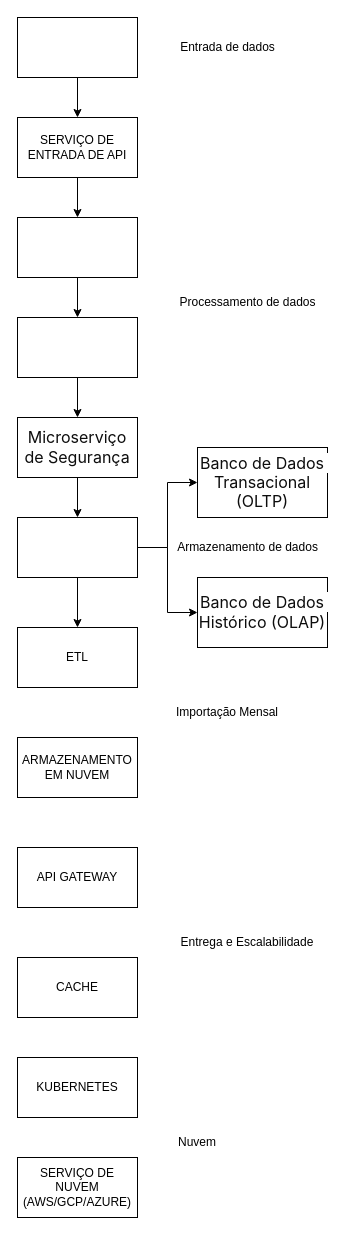
Some shapes in this 345 by 1235 pixel diagram are drawn without their labels. Here are the shapes that lost their labels. From the top down, the centre of each, then its label:
At point 77,47: "CLIENTE".
At point 77,247: "Mensagem Fila (AWS SQS)".
At point 77,347: "Microserviço de Validação".
At point 77,547: "Banco de Dados".
